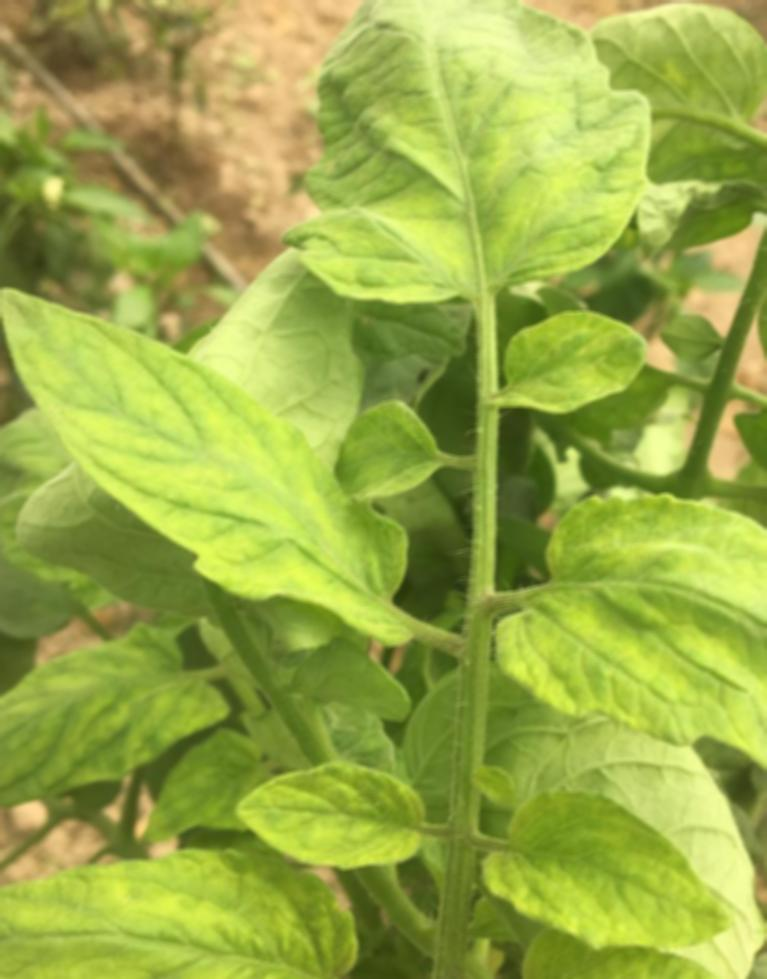Tomato leaf yellow virus: (12, 289, 397, 615), (282, 0, 658, 317), (530, 490, 767, 826), (440, 734, 767, 969), (0, 822, 389, 979)
